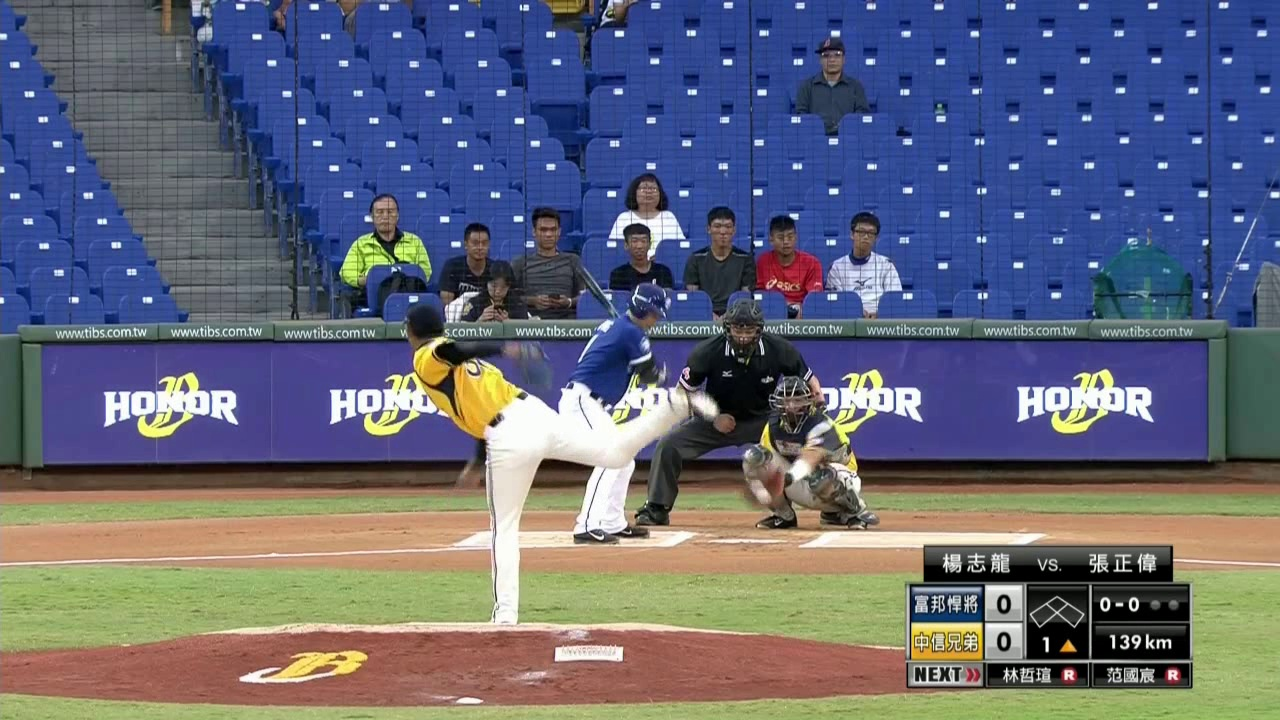ball: (744, 474, 779, 506)
base: (1027, 593, 1088, 630)
bat: (559, 251, 619, 317)
out: (1148, 595, 1184, 612)
score1: (985, 584, 1022, 621)
score2: (985, 623, 1023, 659)
session: (1036, 634, 1082, 658)
speed: (1105, 628, 1174, 652)
strikeball: (1097, 591, 1142, 613)
